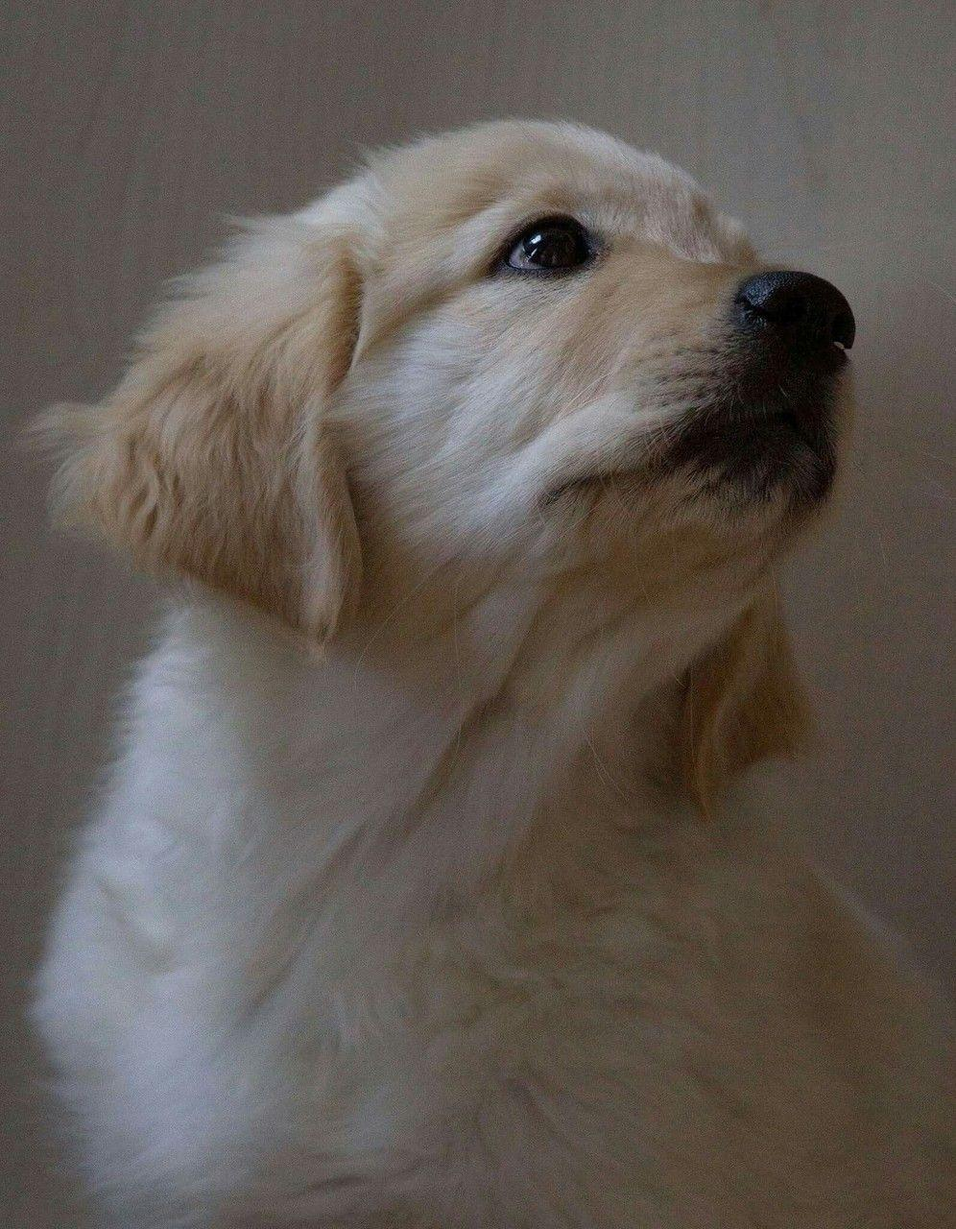puppy-dog: (10, 115, 950, 1229)
